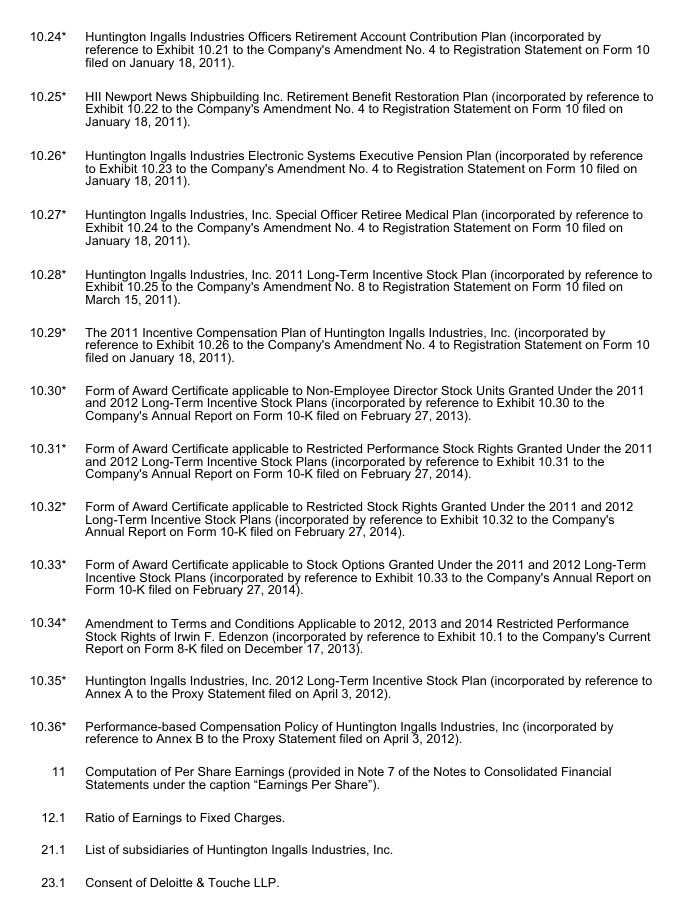table: (28, 28, 652, 888)
table column: (74, 28, 652, 888), (28, 28, 74, 888)
table row: (28, 196, 652, 256), (28, 78, 652, 137), (28, 137, 652, 196), (28, 314, 652, 373), (28, 256, 652, 314), (28, 373, 652, 431), (28, 431, 652, 489), (28, 489, 652, 547), (28, 547, 652, 605), (28, 605, 652, 663), (28, 28, 652, 78), (28, 708, 652, 754), (28, 663, 652, 708), (28, 754, 652, 799), (28, 799, 652, 832), (28, 832, 652, 865), (28, 865, 652, 888)
